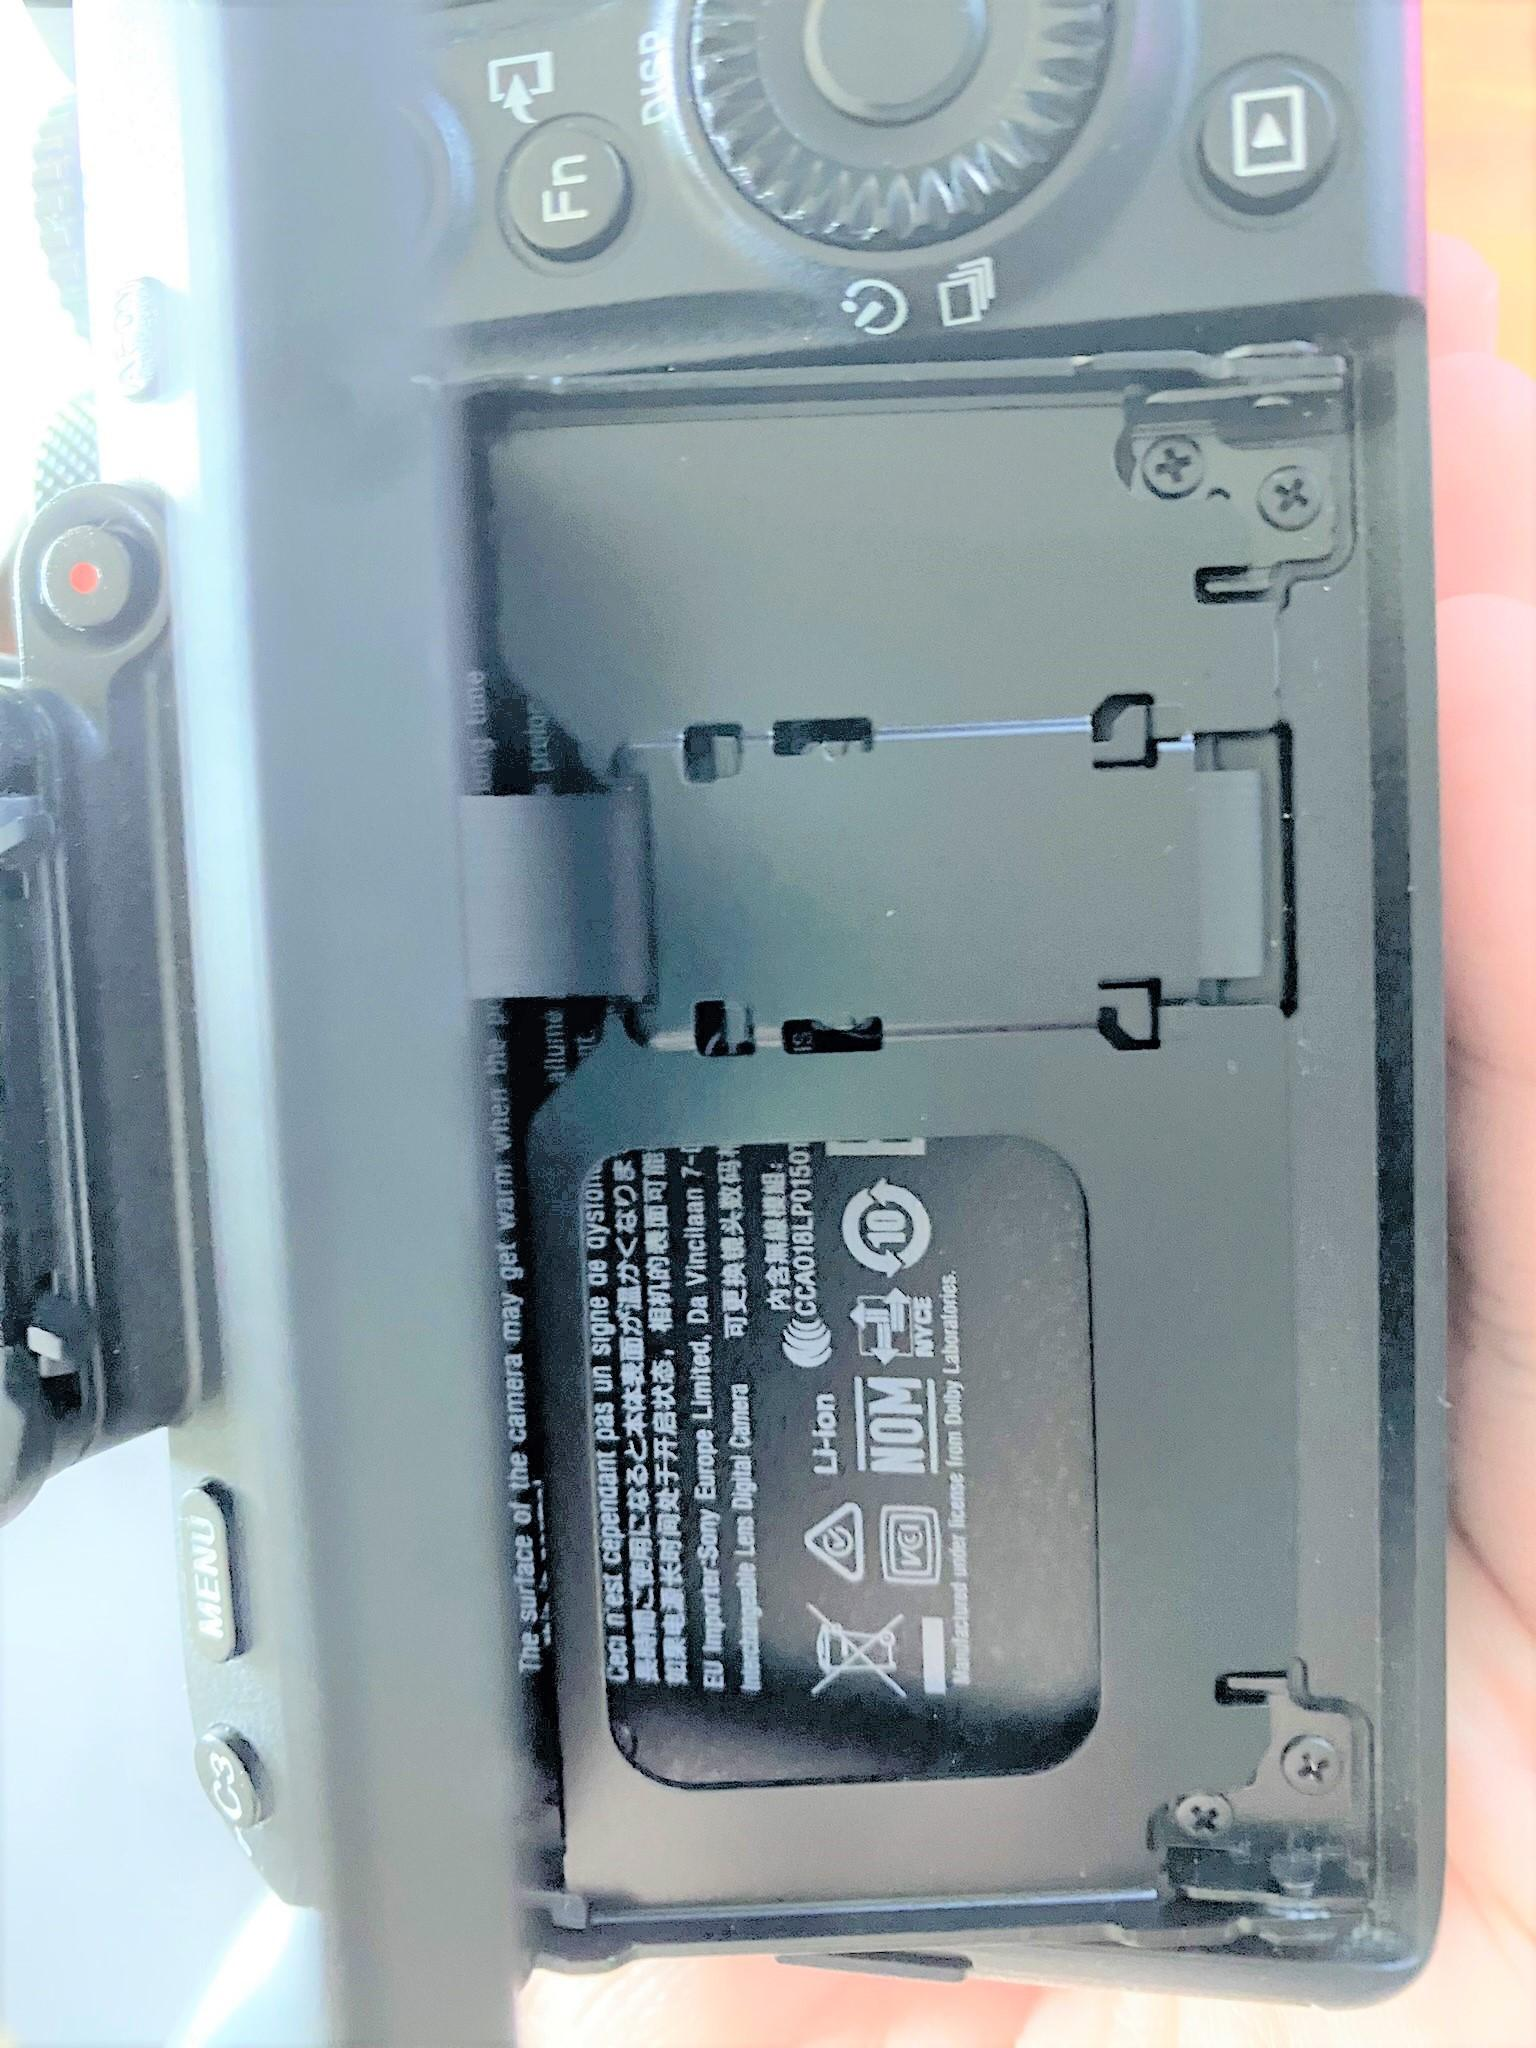PH: (1252, 466, 1325, 531), (1137, 435, 1210, 498), (1279, 1734, 1342, 1800), (1178, 1792, 1233, 1843)
